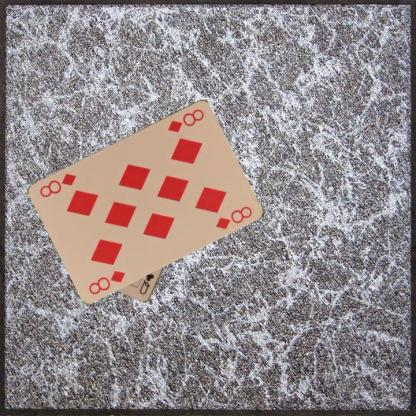8d: (86, 267, 127, 296), (164, 106, 206, 133)
Qc: (137, 270, 155, 297)
